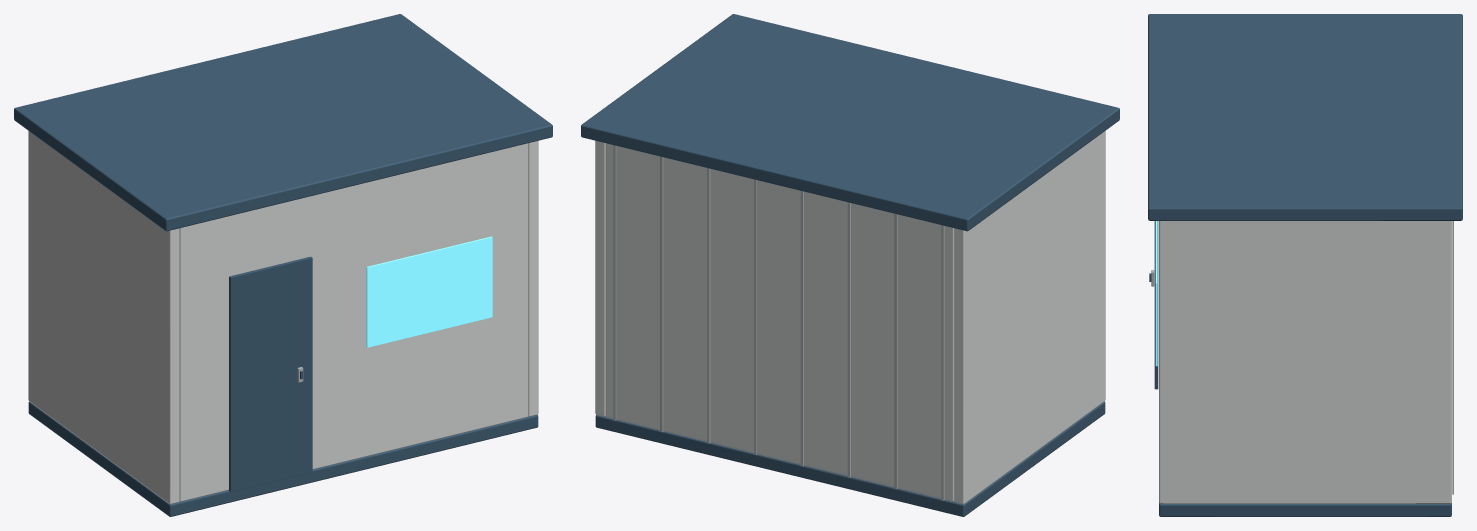
Rendered from container-inspection-and-customs-yard-container-inspec-dd961ac6__29303.glb.
3 renders of one model, left to right at view 1: azimuth 30°, elevation 25°; view 2: azimuth 150°, elevation 25°; view 3: azimuth 270°, elevation 25°, orthographic. The views are drawn at different scales.
Parts seen in each view (by area): view 1: container-inspection-and-customs-yard-roofed-administration- (×3); view 2: container-inspection-and-customs-yard-roofed-administration- (×3); view 3: container-inspection-and-customs-yard-roofed-administration- (×4).
Part boxes in pixels (box(x1,y1,x2,y2)): container-inspection-and-customs-yard-roofed-administration- (×3): box(14, 14, 552, 516); container-inspection-and-customs-yard-roofed-administration- (×3): box(581, 14, 1119, 516); container-inspection-and-customs-yard-roofed-administration- (×4): box(1148, 14, 1462, 516).
Size of the model in its own units: 3.78 by 2.84 by 2.58.
